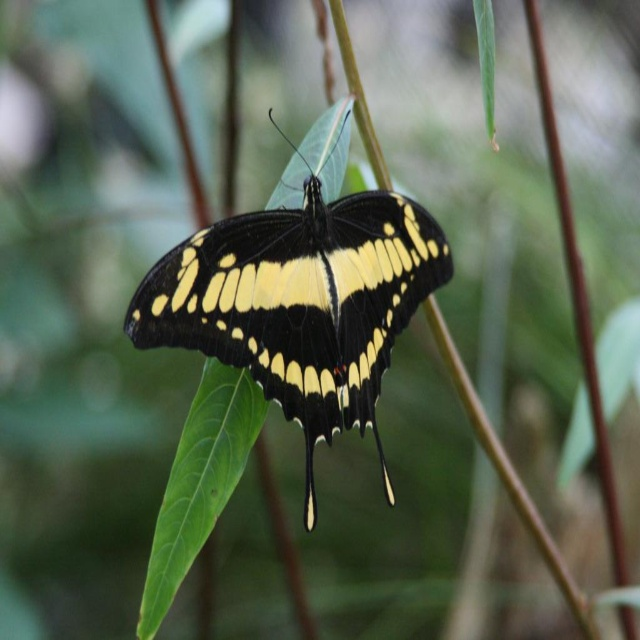Butterfly: (122, 105, 454, 533)
